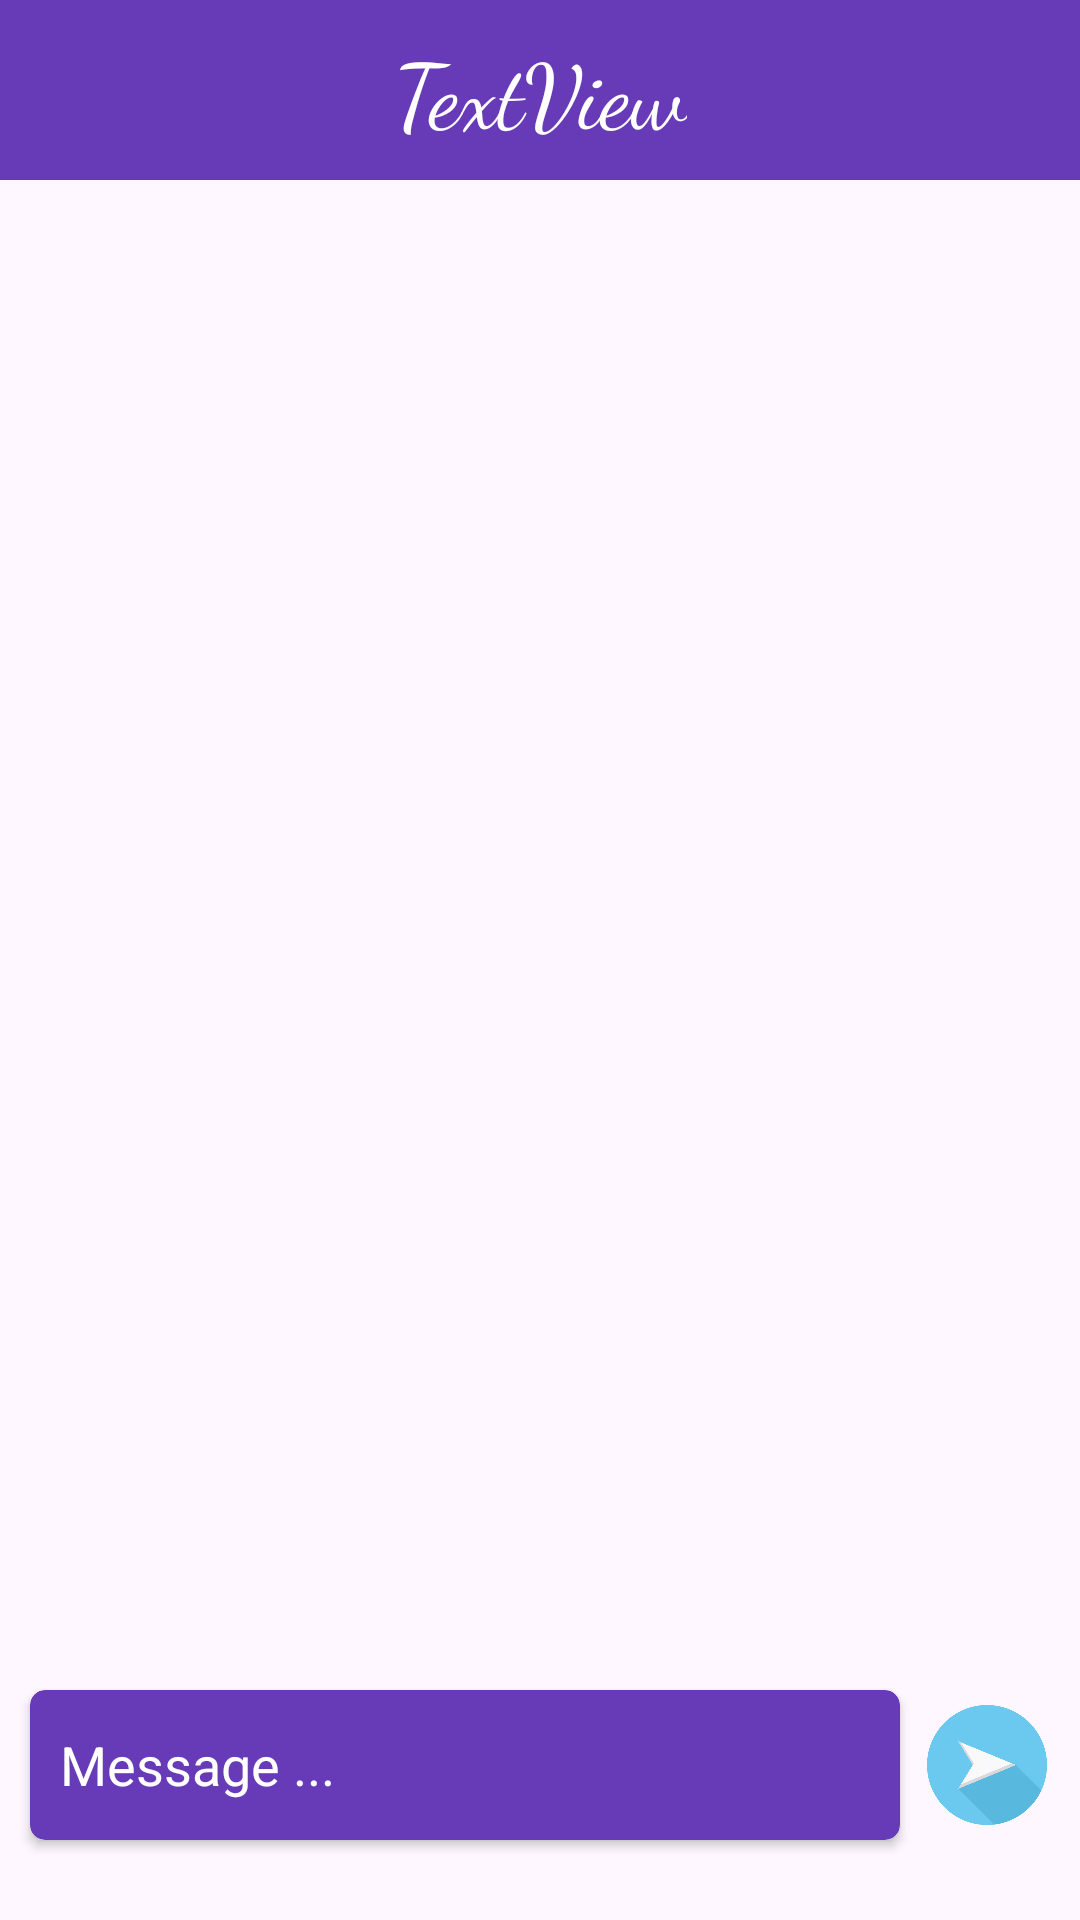

Named icons in this screenshot (1080*1920) and their bounding boxes, (x1, y1, x2, y2):
send: (927, 1705, 1047, 1825)
